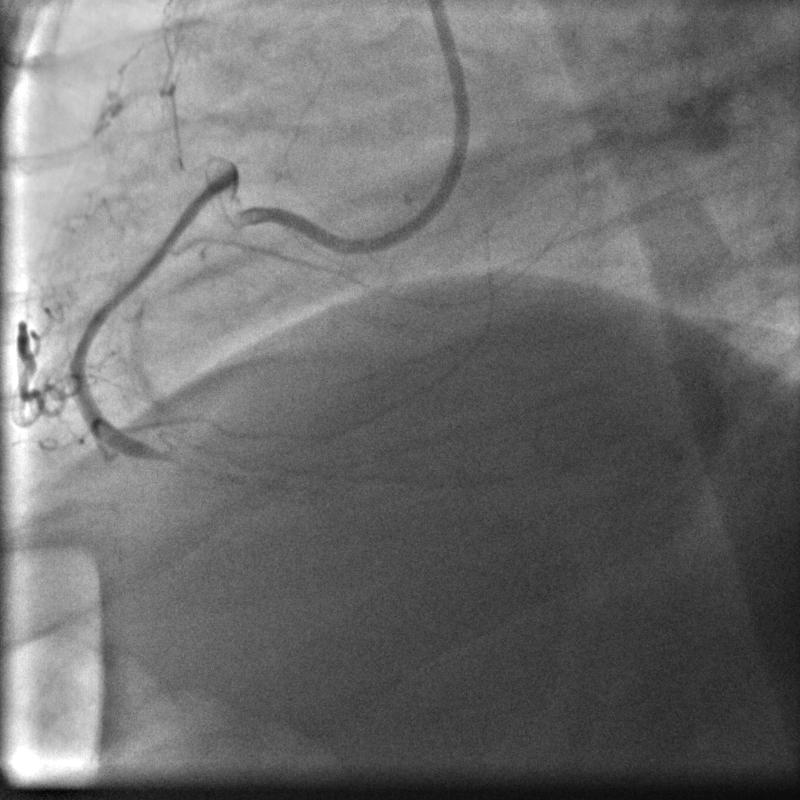Stenosis: (135, 436, 200, 477)
